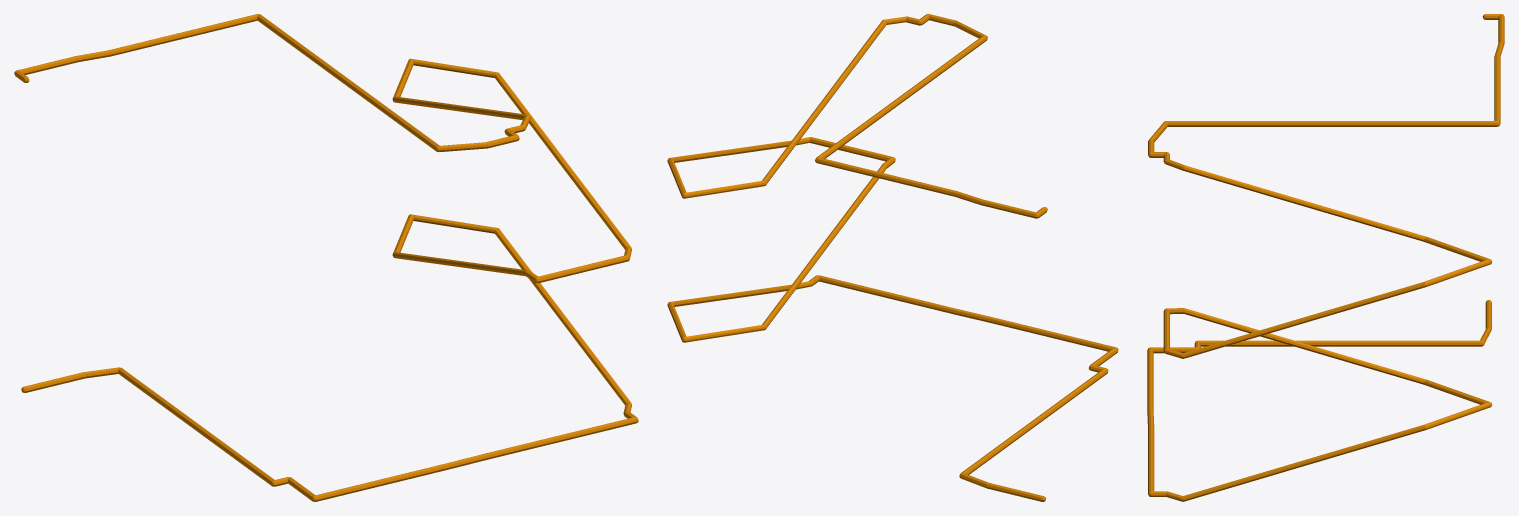
The picture shows the model from 3 angles, left to right: view 1: azimuth 30°, elevation 25°; view 2: azimuth 150°, elevation 25°; view 3: azimuth 270°, elevation 25°; orthographic projection. The views are drawn at different scales.
Bounding box in the file's own units: 1492 × 1020 × 1133.
